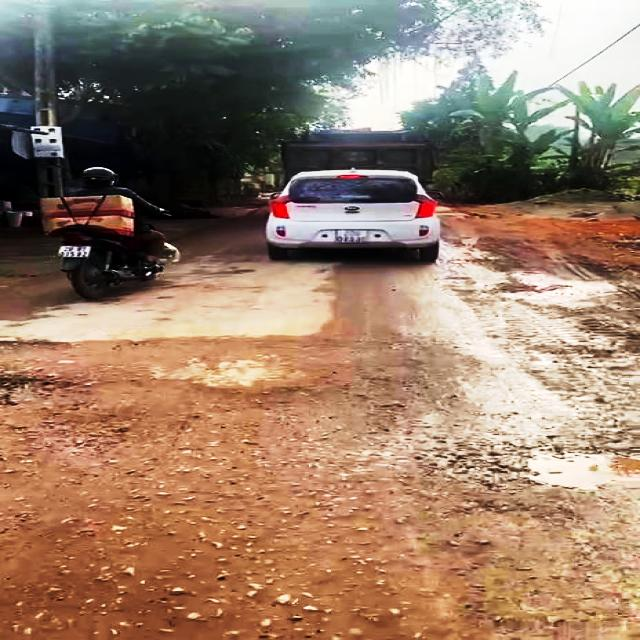pothole: (447, 433, 640, 492), (0, 336, 120, 407)
